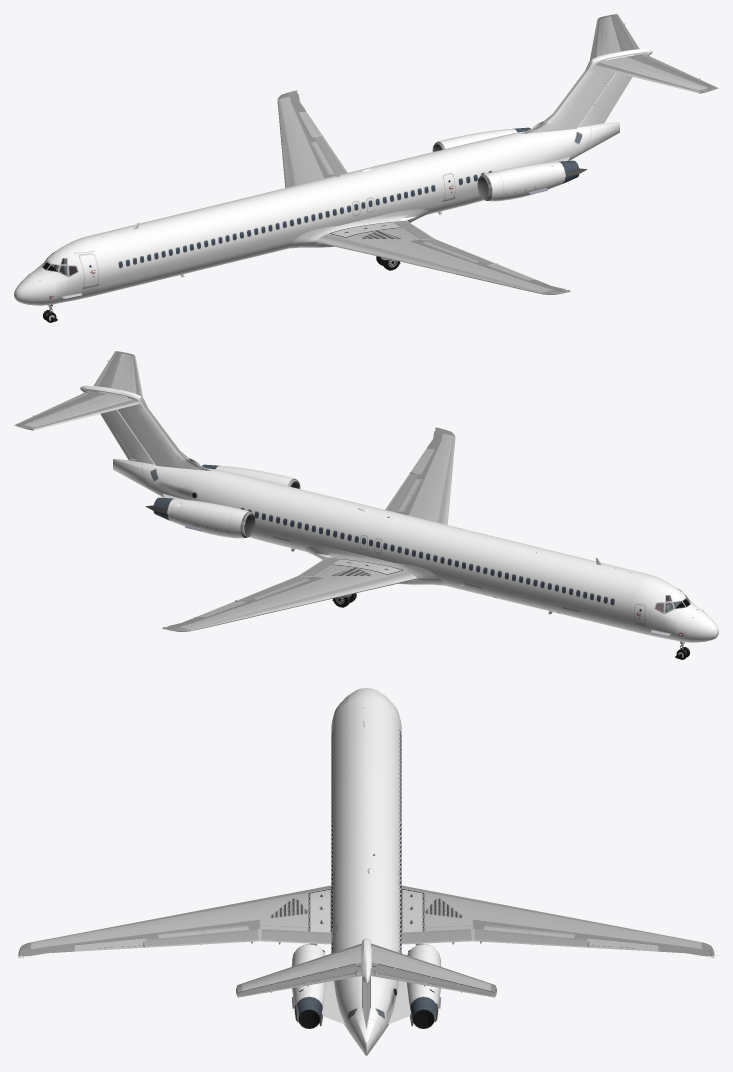
3 views of the same model, one above another, from view 1: azimuth 30°, elevation 25°; view 2: azimuth 150°, elevation 25°; view 3: azimuth 270°, elevation 25° (orthographic). The views are drawn at different scales.
Visible parts, largest first — view 1: Fuselage, Engines, VStabilizer, Stabilizer, WingR2, WingFairing, WingL2, WingL1, Rudder, WingR3, WingL3, SlatsL2 (+2 smaller); view 2: Fuselage, Engines, VStabilizer, Stabilizer, WingL2, WingFairing, WingR2, WingR1, Rudder, WingL3, WingR3, SlatsR2 (+2 smaller); view 3: Fuselage, Stabilizer, Engines, WingL1, WingR1, WingL2, WingR2, WingL3, WingR3, FlapOutL, FlapOutR, ElevatorL (+3 smaller).
Part boxes in pixels (x1,y1,x2,y2): Fuselage: (14,122,619,305); Engines: (432,127,586,201); VStabilizer: (521,48,652,133); Stabilizer: (589,15,711,93); WingR2: (288,137,335,185); WingFairing: (288,209,430,248); WingL2: (380,239,487,269); WingL1: (328,222,415,247); Rudder: (578,72,632,127); WingR3: (277,90,311,142); WingL3: (462,265,570,294); SlatsL2: (370,248,461,274); Fuselage: (113,459,718,642); Engines: (146,464,300,538); VStabilizer: (80,385,211,470); Stabilizer: (21,352,143,430); WingL2: (397,474,444,522); WingFairing: (302,546,444,585); WingR2: (245,576,352,606); WingR1: (317,559,404,584); Rudder: (100,409,154,464); WingL3: (421,427,455,479); WingR3: (162,602,270,631); SlatsR2: (271,585,362,611); Fuselage: (321,688,411,1055); Stabilizer: (236,943,496,992); Engines: (291,944,441,1028); WingL1: (260,888,331,932); WingR1: (401,888,472,932); WingL2: (145,901,259,939); WingR2: (473,901,587,939); WingL3: (18,922,145,958); WingR3: (587,922,714,958); FlapOutL: (145,929,258,947); FlapOutR: (474,929,587,947); ElevatorL: (236,964,361,997).
Bounding box in the file's own units: 45.25 × 9.18 × 33.3.
403 materials, 394 textured.
